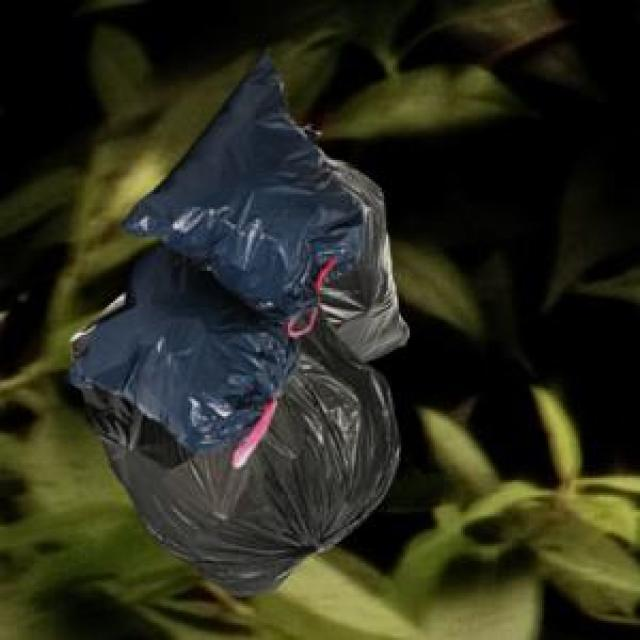Trashbag: (120, 46, 368, 310), (69, 272, 305, 455)
